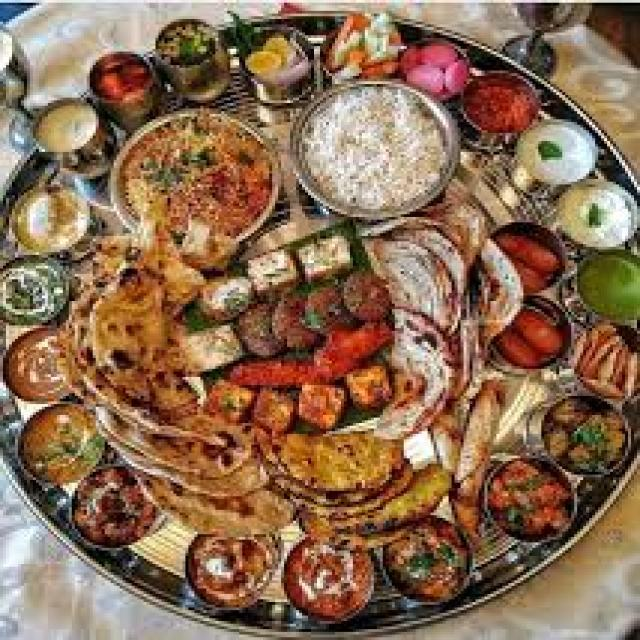raita: (290, 78, 461, 222), (4, 181, 93, 260)
rice: (289, 79, 463, 223)
roti: (74, 216, 220, 457), (385, 232, 507, 423)
sweet: (504, 305, 569, 367)
veg-fry: (8, 397, 108, 487), (482, 456, 578, 544)
